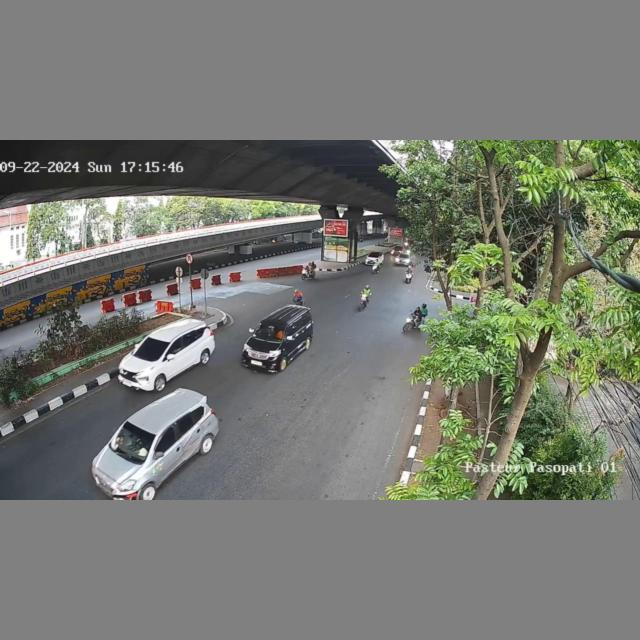windshield: (109, 423, 156, 461), (252, 321, 290, 343), (134, 336, 171, 358)
